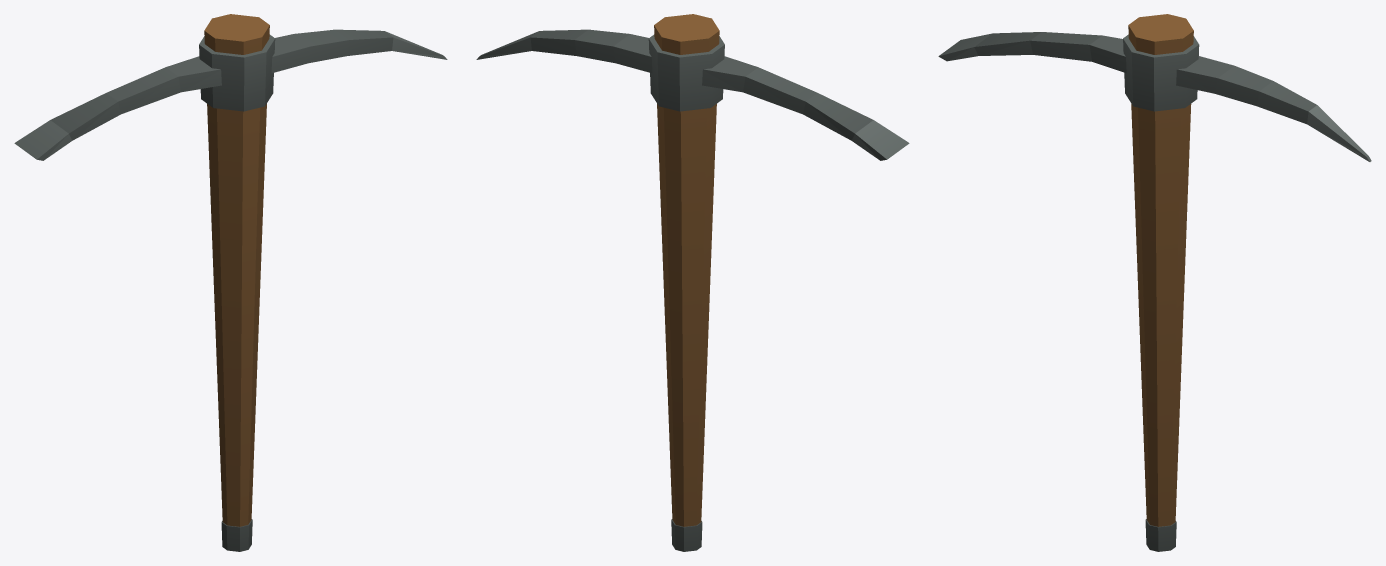
Rendered from Tool_Pickaxe_02.obj.
3 views of the same model, side by side, from view 1: azimuth 30°, elevation 25°; view 2: azimuth 150°, elevation 25°; view 3: azimuth 330°, elevation 25° (orthographic).
Visible parts, largest first — view 1: Tool_Pickaxe_02; view 2: Tool_Pickaxe_02; view 3: Tool_Pickaxe_02.
Boxes of the visible parts, x1,y1,x2,y2 form: Tool_Pickaxe_02: [14, 14, 447, 551]; Tool_Pickaxe_02: [476, 14, 909, 551]; Tool_Pickaxe_02: [938, 14, 1371, 551].
Bounding box in the file's own units: 0.7392 × 0.8682 × 0.1113.
Materials: 1 (1 with a texture image).
